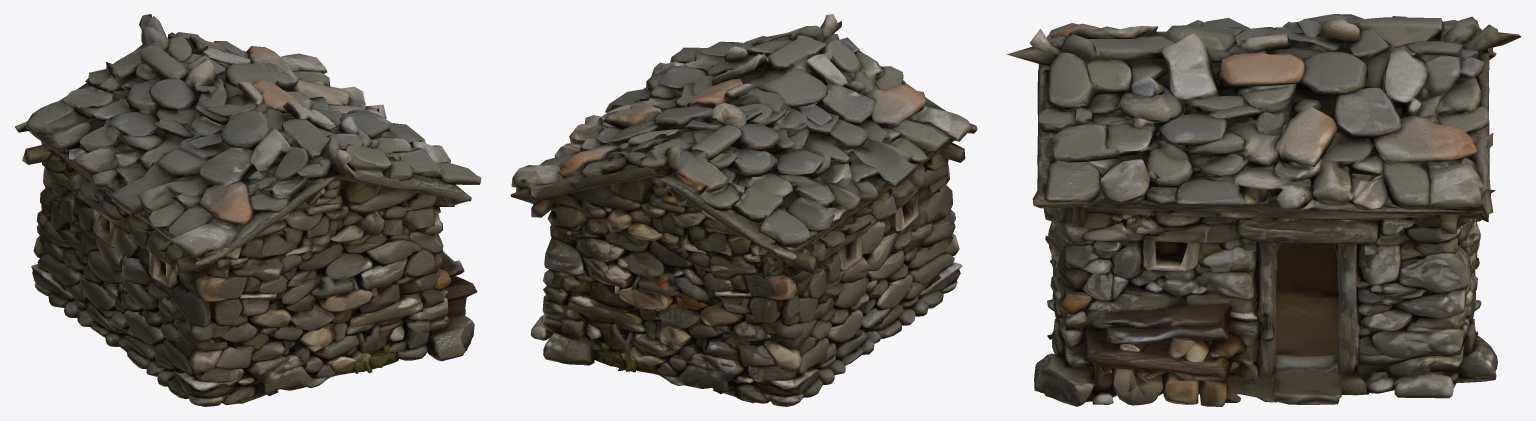
The model's file is stone_goth.glb.
The picture shows the model from 3 angles, left to right: view 1: azimuth 30°, elevation 25°; view 2: azimuth 150°, elevation 25°; view 3: azimuth 270°, elevation 25°; orthographic projection. The views are drawn at different scales.
Parts seen in each view (by area): view 1: tripo_node_45ffbee7-6c3a-4d81-a8ee-664b5873d801; view 2: tripo_node_45ffbee7-6c3a-4d81-a8ee-664b5873d801; view 3: tripo_node_45ffbee7-6c3a-4d81-a8ee-664b5873d801.
Part boxes in pixels (<box>): tripo_node_45ffbee7-6c3a-4d81-a8ee-664b5873d801: <box>15,14,481,406</box>; tripo_node_45ffbee7-6c3a-4d81-a8ee-664b5873d801: <box>510,14,977,406</box>; tripo_node_45ffbee7-6c3a-4d81-a8ee-664b5873d801: <box>1006,14,1520,406</box>.
Bounding box in the file's own units: 2.43 × 1.8 × 2.87.
1 material, 1 textured.
